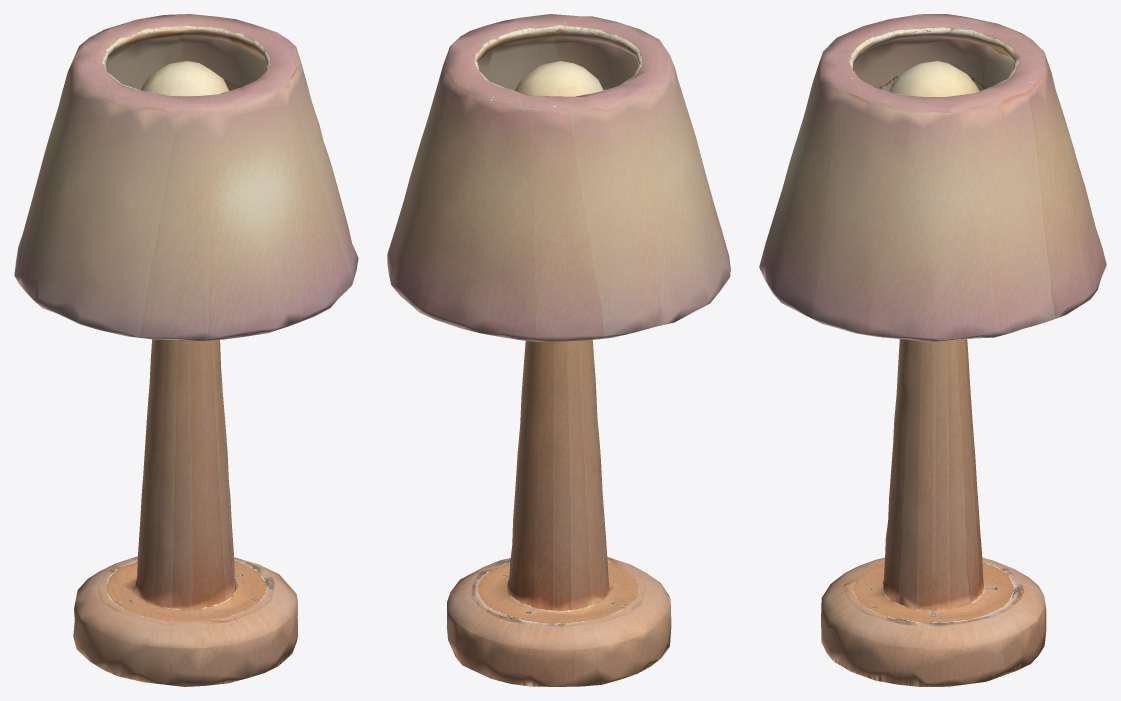
The model's file is Prop_Lamp.glb.
The picture shows the model from 3 angles, left to right: view 1: azimuth 30°, elevation 25°; view 2: azimuth 150°, elevation 25°; view 3: azimuth 270°, elevation 25°; orthographic projection.
Parts seen in each view (by area): view 1: input; view 2: input; view 3: input.
Boxes of the visible parts, left/top/right/bottom form: input: left=14, top=14, right=358, bottom=686; input: left=387, top=14, right=730, bottom=686; input: left=759, top=14, right=1106, bottom=686.
Bounding box in the file's own units: 0.5432 × 1 × 0.5446.
1 material, 1 textured.
